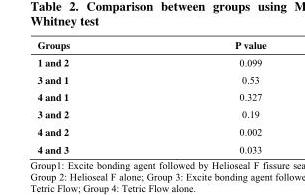table: (36, 37, 265, 156)
table column: (36, 37, 151, 156), (151, 37, 265, 156)
table row: (36, 87, 265, 105), (36, 122, 265, 140), (36, 53, 265, 70), (36, 70, 265, 87), (36, 105, 265, 122), (36, 37, 265, 53), (36, 140, 265, 156)
